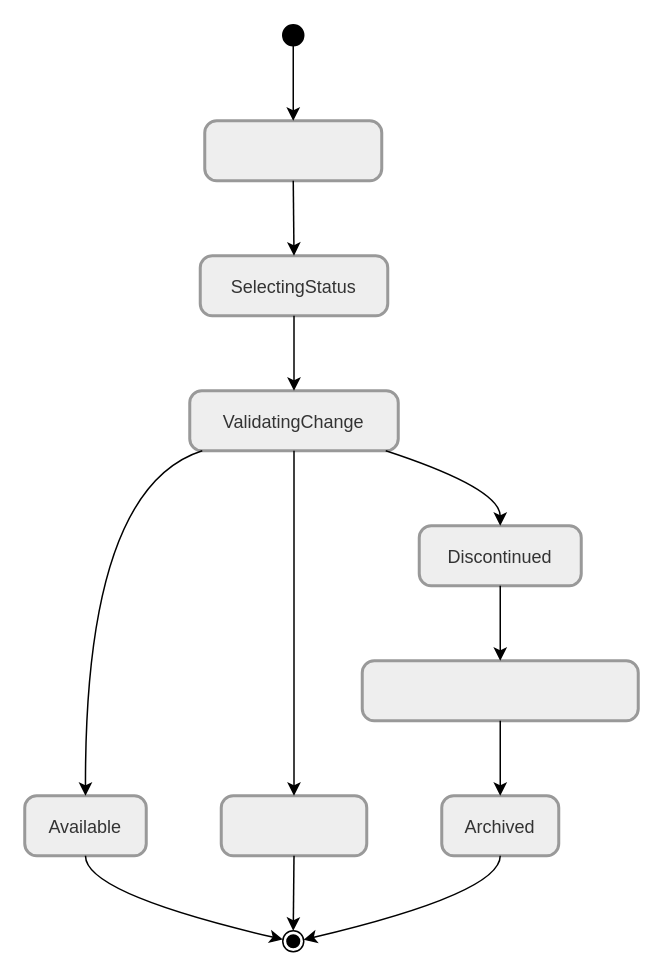
This 663x977 diagram has some shape labels left out. Each missing label, with the box of its shape:
ConfirmDiscontinuation: (360, 658, 639, 722)
OutOfStock: (219, 794, 368, 856)
ViewingListing: (202, 118, 382, 182)
